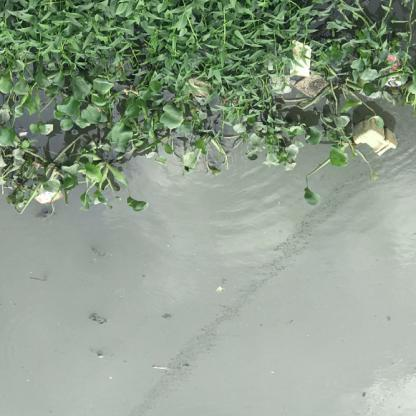Trash: (351, 114, 394, 158), (273, 40, 316, 82), (296, 70, 328, 102), (30, 180, 65, 209)
